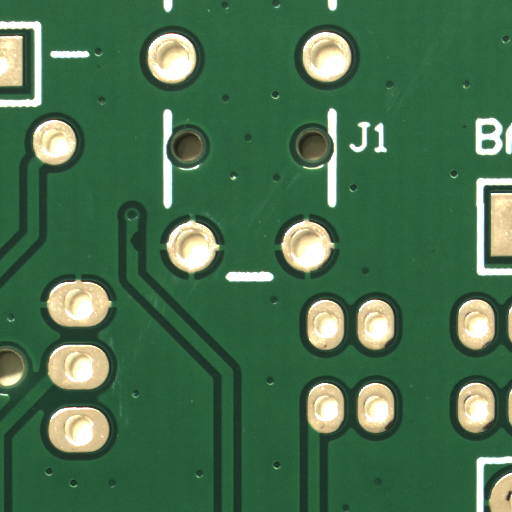Mouse_bite: (134, 241, 144, 262)
